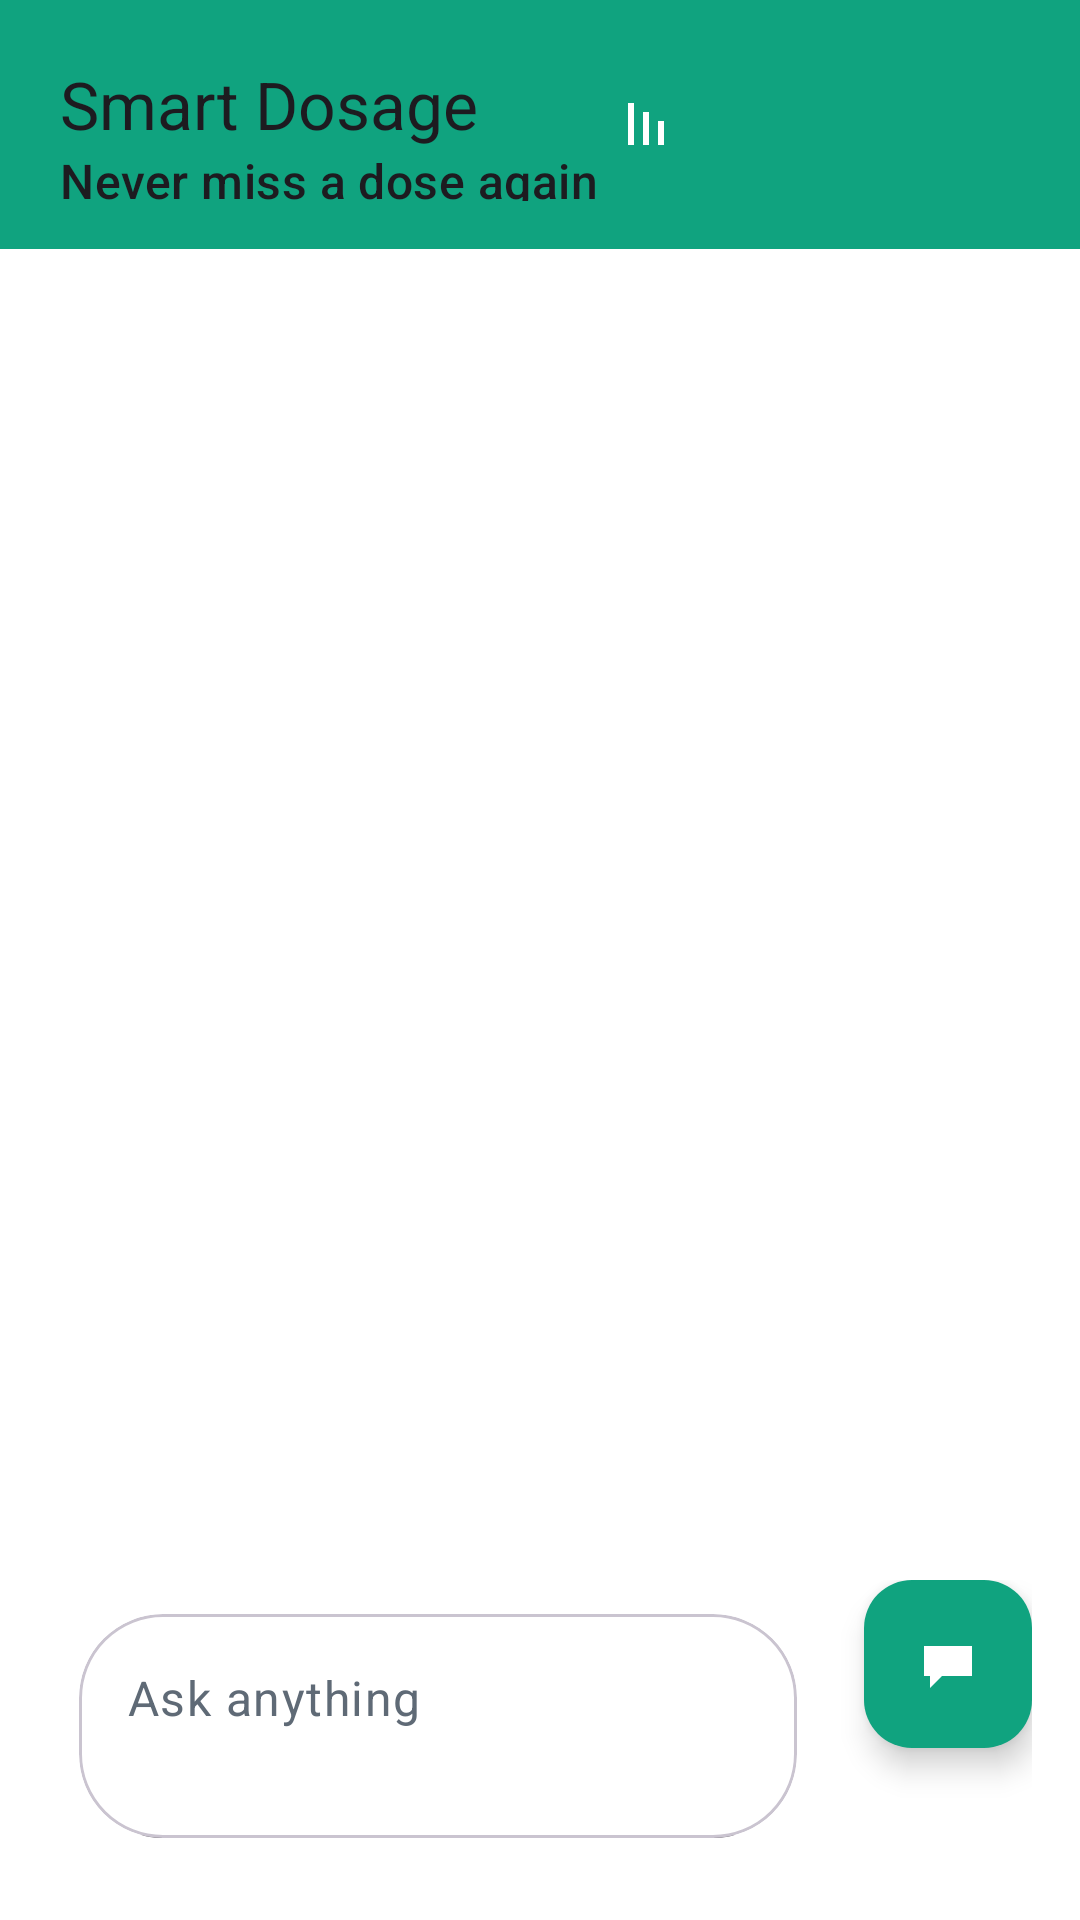

Named icons in this screenshot (1080*1920) and their bounding boxes, box(x1, y1, x2, y2):
chat: box(864, 1580, 1032, 1748)
